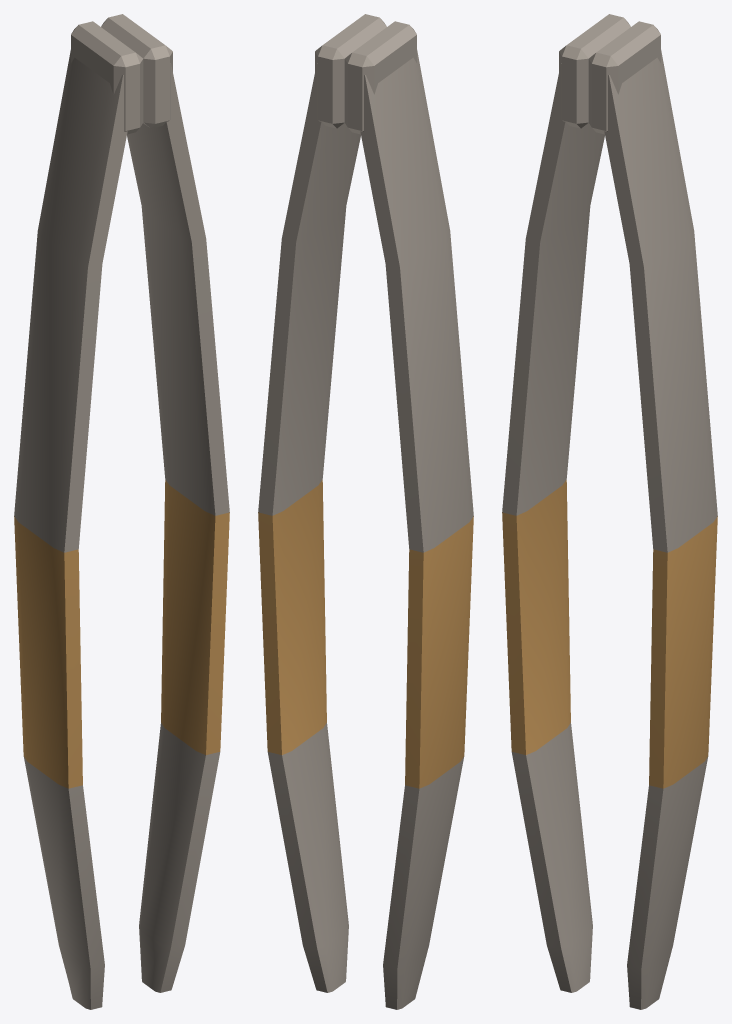
The model's file is pinzette.glb.
3 views of the same model, side by side, from view 1: azimuth 30°, elevation 25°; view 2: azimuth 150°, elevation 25°; view 3: azimuth 330°, elevation 25° (orthographic).
Parts seen in each view (by area): view 1: braccio_sx, braccio_dx; view 2: braccio_sx, braccio_dx; view 3: braccio_dx, braccio_sx.
Boxes of the visible parts, box(x1,y1,x2,y2) form: braccio_sx: box(14, 21, 143, 1009); braccio_dx: box(101, 14, 229, 992); braccio_sx: box(344, 21, 473, 1009); braccio_dx: box(258, 14, 386, 992); braccio_dx: box(588, 21, 717, 1009); braccio_sx: box(502, 14, 630, 992).
Bounding box in the file's own units: 0.0225 × 0.12 × 0.0117.
